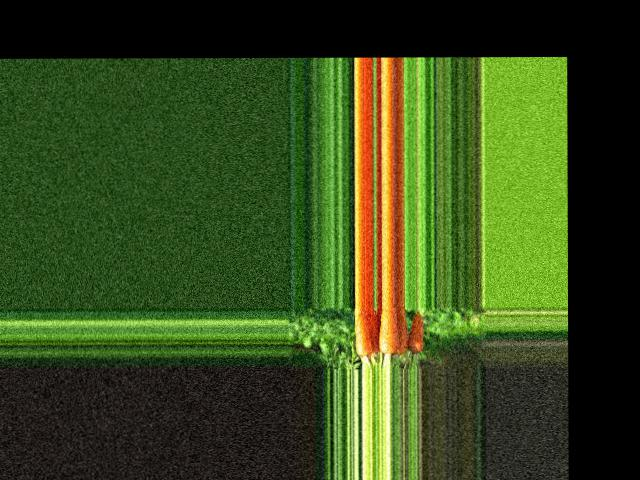carrot: (406, 306, 427, 354)
